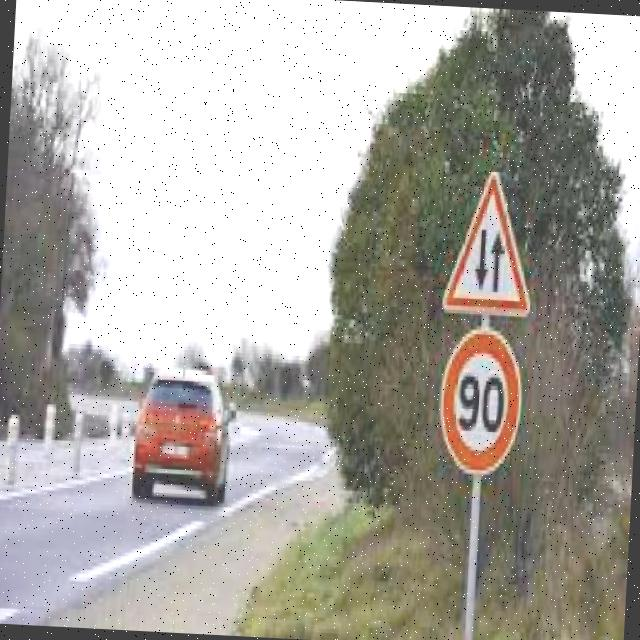Ograniczenie predkosci do 90: (438, 327, 524, 475)
